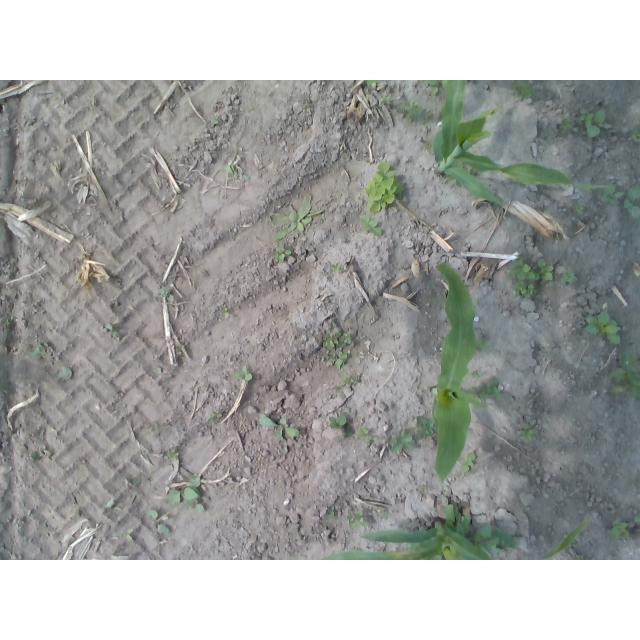Maize: (431, 80, 611, 208), (316, 512, 592, 560), (429, 263, 487, 486)
Weeds: (272, 199, 325, 242), (363, 162, 406, 215), (610, 351, 640, 402), (258, 415, 300, 450), (166, 477, 205, 514), (507, 256, 539, 300), (583, 311, 622, 346), (472, 524, 517, 553), (323, 332, 354, 371), (398, 99, 433, 129), (578, 108, 613, 138), (444, 503, 472, 538), (465, 379, 504, 401), (327, 414, 353, 439), (597, 181, 625, 203), (622, 184, 640, 218), (147, 510, 171, 535), (390, 428, 414, 452), (223, 163, 251, 182), (360, 216, 383, 239), (510, 80, 534, 101), (416, 415, 437, 438), (516, 422, 539, 442), (347, 509, 370, 529), (355, 426, 378, 446), (537, 258, 555, 282), (460, 450, 476, 474), (609, 519, 630, 537), (557, 116, 575, 136), (628, 111, 640, 141), (271, 245, 292, 262), (560, 267, 579, 285), (156, 286, 176, 303), (234, 364, 253, 380), (424, 81, 444, 96), (27, 344, 45, 360), (58, 366, 73, 383), (105, 323, 119, 341), (474, 337, 491, 351), (461, 163, 477, 176), (208, 411, 224, 424), (123, 477, 141, 488), (379, 95, 398, 105), (325, 505, 337, 519), (444, 177, 459, 188), (120, 529, 135, 540), (167, 448, 180, 460), (342, 374, 354, 386), (330, 262, 342, 274), (572, 203, 585, 214), (469, 369, 483, 379), (423, 140, 434, 152), (364, 80, 384, 86), (632, 509, 640, 524), (0, 382, 8, 395), (6, 316, 15, 326), (221, 308, 230, 316), (421, 486, 430, 494), (31, 452, 40, 460), (211, 117, 221, 124), (572, 556, 585, 561), (154, 366, 162, 374), (303, 102, 313, 108), (247, 107, 253, 113)
